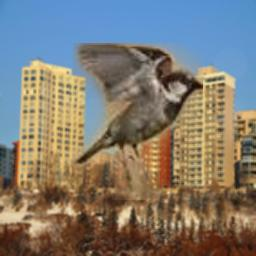Sparrow: (73, 43, 203, 200)
